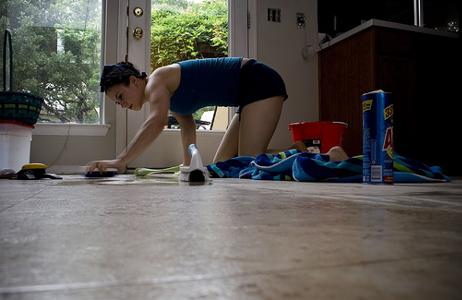person: (87, 56, 355, 178)
